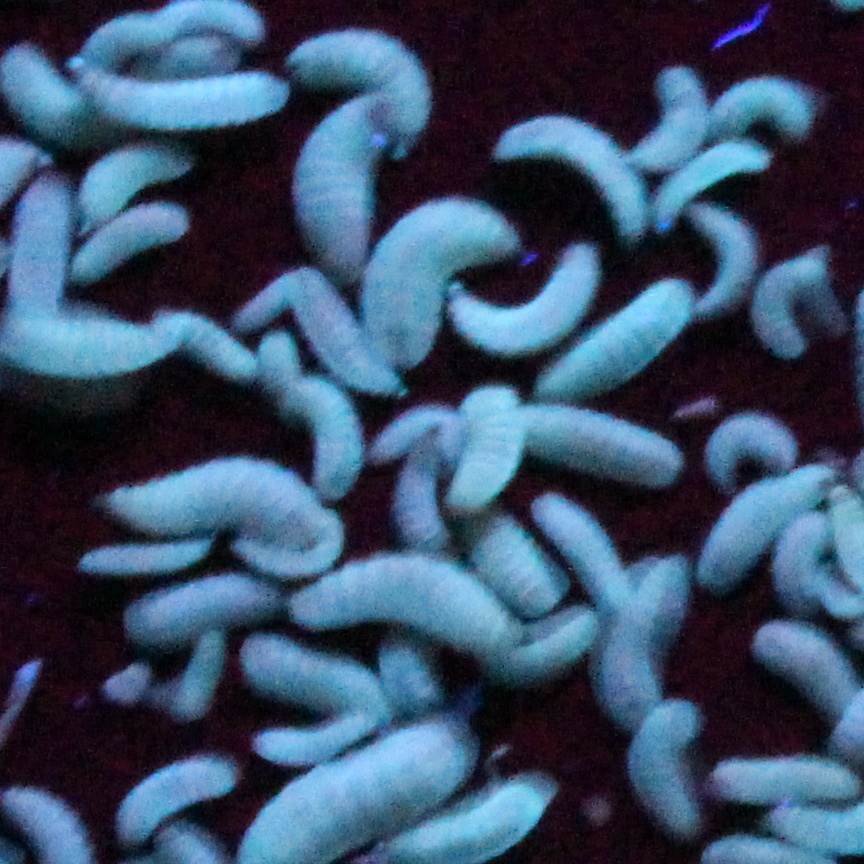larve: (92, 444, 314, 540), (528, 399, 682, 500), (497, 107, 623, 230), (756, 234, 846, 378), (450, 261, 586, 351), (293, 562, 488, 624), (308, 99, 377, 264), (245, 632, 382, 715), (83, 70, 286, 125), (397, 789, 562, 856), (374, 204, 442, 363), (247, 765, 423, 826), (709, 61, 828, 143), (681, 202, 754, 330), (603, 278, 683, 394), (12, 185, 79, 318), (631, 710, 698, 839), (3, 323, 165, 376), (698, 481, 774, 593), (113, 579, 278, 629), (703, 393, 793, 484), (629, 58, 708, 160), (458, 387, 519, 508), (615, 560, 665, 706), (306, 23, 412, 91), (113, 758, 246, 807), (81, 220, 188, 279), (708, 762, 850, 805), (176, 311, 251, 386), (311, 374, 357, 496), (573, 500, 626, 604), (19, 48, 74, 148), (79, 542, 221, 578), (296, 272, 358, 353), (399, 432, 443, 544), (175, 637, 226, 728), (780, 520, 829, 613), (86, 142, 161, 202), (492, 526, 543, 607), (161, 3, 269, 40), (83, 16, 162, 54), (248, 724, 369, 747), (702, 147, 768, 184)
